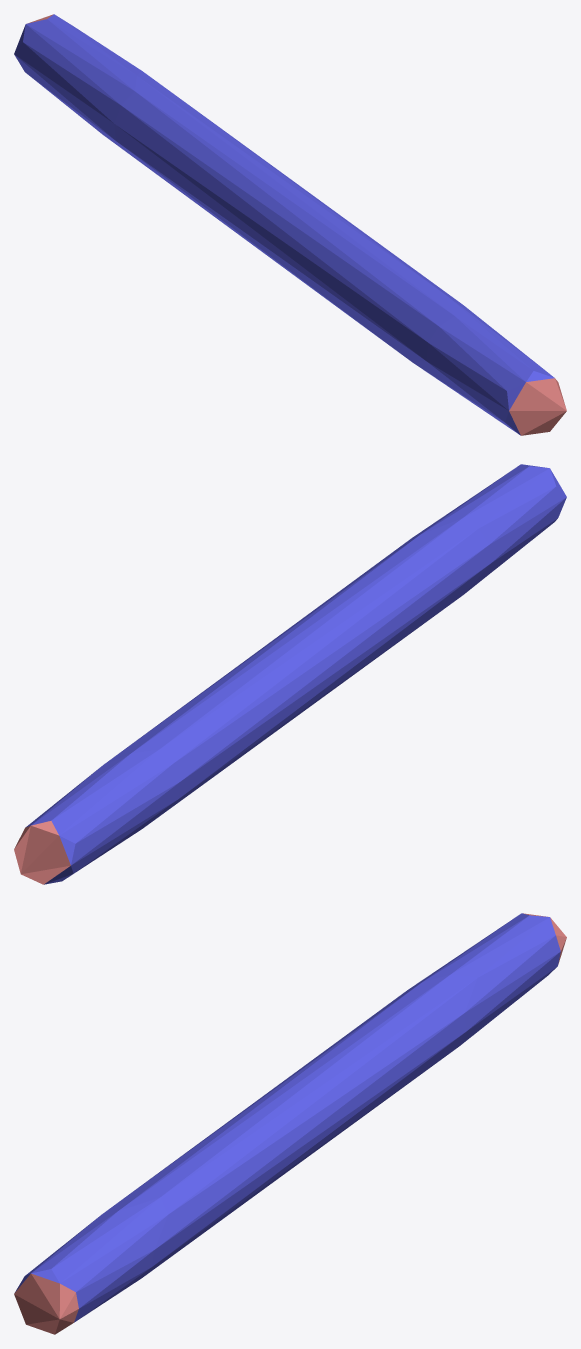
Rendered from _Log.fbx.
3 views of the same model, one above another, from view 1: azimuth 30°, elevation 25°; view 2: azimuth 150°, elevation 25°; view 3: azimuth 330°, elevation 25° (orthographic).
Visible parts, largest first — view 1: Cylinder.024; view 2: Cylinder.024; view 3: Cylinder.024.
Boxes of the visible parts, <box> form: Cylinder.024: <box>14,14,566,435</box>; Cylinder.024: <box>14,464,566,884</box>; Cylinder.024: <box>14,913,566,1334</box>.
Size of the model in its own units: 87.58 by 87.26 by 1170.
